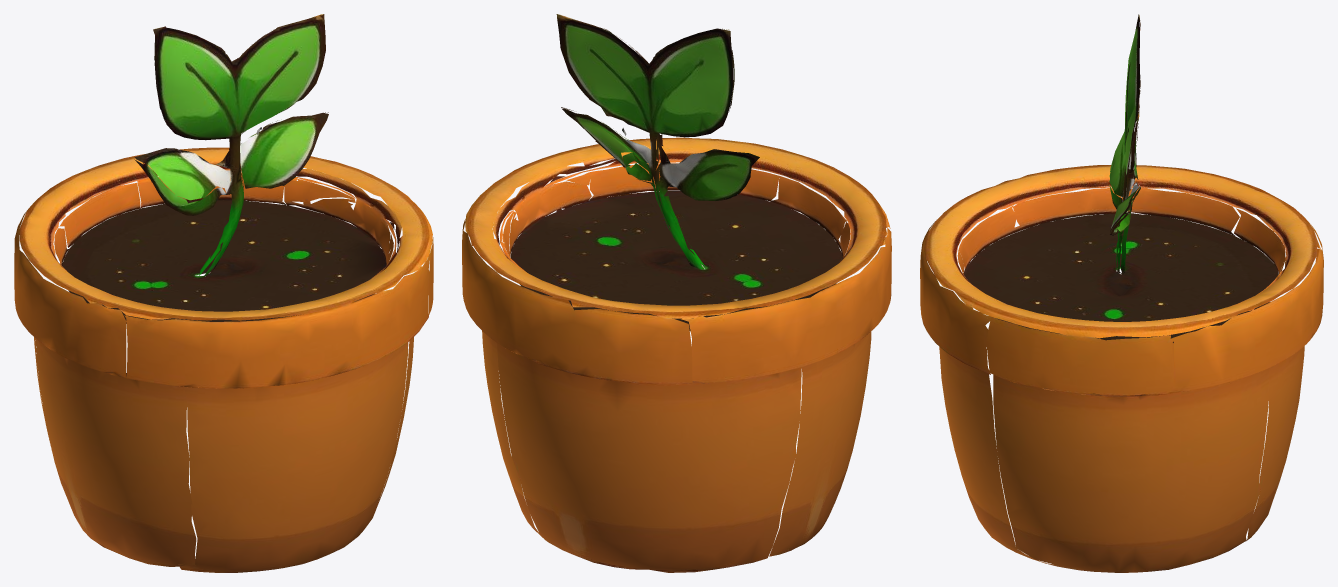
The model's file is saksi.glb.
3 renders of one model, left to right at view 1: azimuth 30°, elevation 25°; view 2: azimuth 150°, elevation 25°; view 3: azimuth 270°, elevation 25°, orthographic. The views are drawn at different scales.
Parts seen in each view (by area): view 1: geometry_0; view 2: geometry_0; view 3: geometry_0.
Boxes of the visible parts, box(x1,y1,x2,y2) form: geometry_0: box(14, 14, 433, 572); geometry_0: box(462, 14, 891, 572); geometry_0: box(920, 14, 1323, 572).
Size of the model in its own units: 0.7725 by 0.9925 by 0.7722.
1 material, 1 textured.
